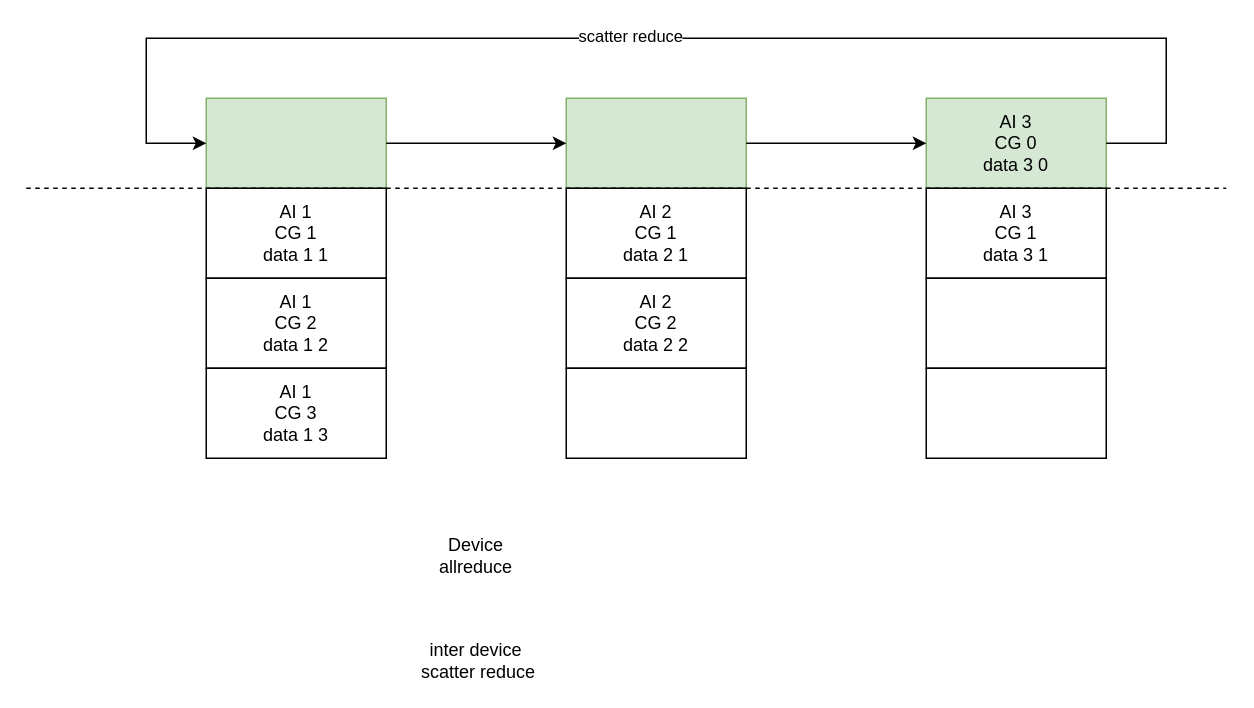
The diagram is 1254 pixels wide and 708 high, and some of its shapes have lost their labels. Here are the shapes that lost their labels. From the top down, the box of each, then its label:
(205, 97, 386, 188): AI 1 CG 0 data 1 0
(565, 97, 746, 188): AI 2 CG 0 data 2 0
